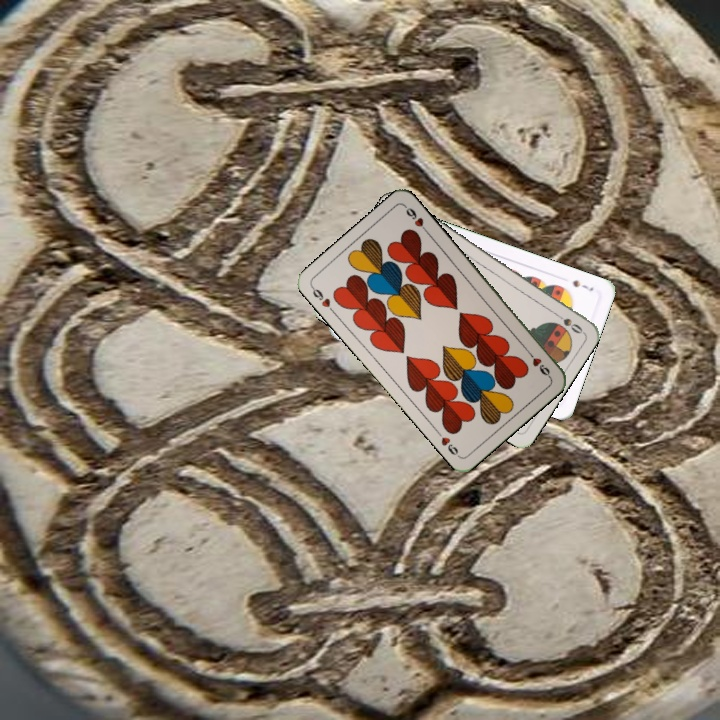H9: (307, 283, 338, 317), (523, 346, 553, 380)
S7: (569, 276, 596, 294)
SO: (549, 308, 585, 336)
